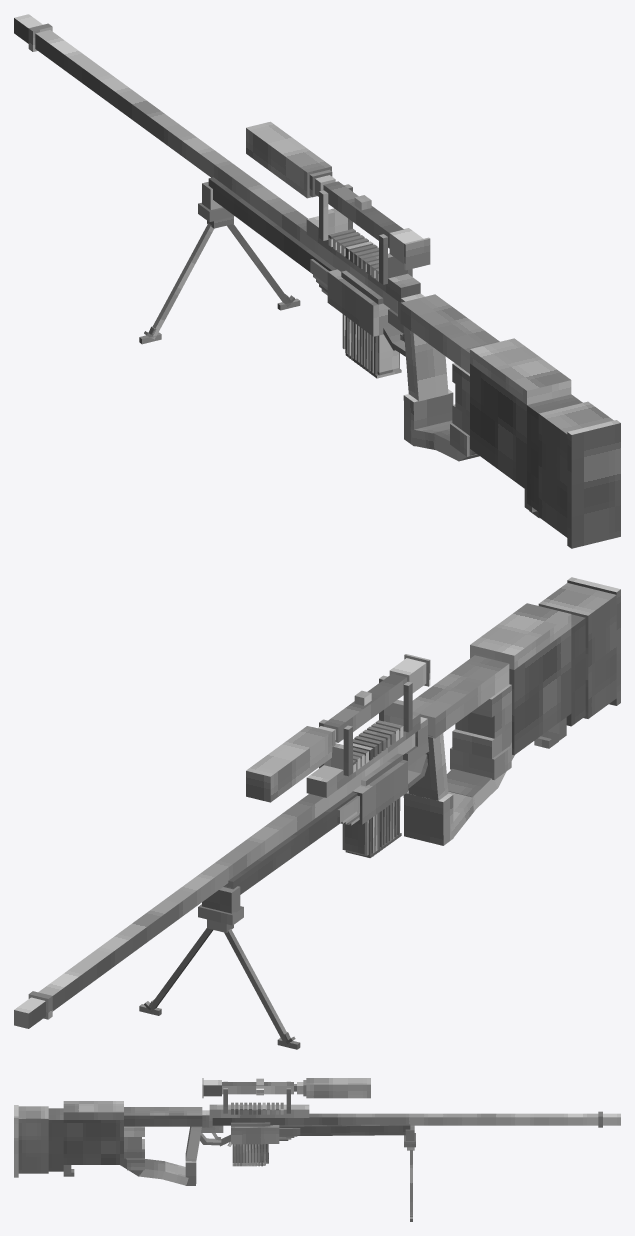
3 views of the same model, one above another, from view 1: azimuth 30°, elevation 25°; view 2: azimuth 150°, elevation 25°; view 3: azimuth 270°, elevation 25° (orthographic). The views are drawn at different scales.
Visible parts, largest first — view 1: cube (×16); view 2: cube (×24); view 3: cube (×22).
Boxes of the visible parts, left/top/right/bottom form: cube (×16): left=14, top=14, right=620, bottom=548; cube (×24): left=14, top=577, right=620, bottom=1044; cube (×22): left=14, top=1078, right=620, bottom=1185.
Size of the model in its own units: 0.4 by 0.5563 by 2.52.
Materials: 1 (1 with a texture image).
